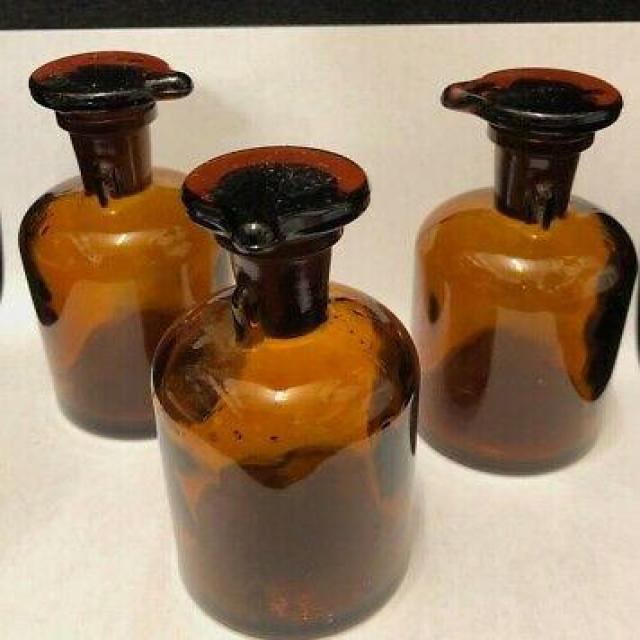non-organic waste: (149, 141, 421, 640), (413, 59, 640, 475)
